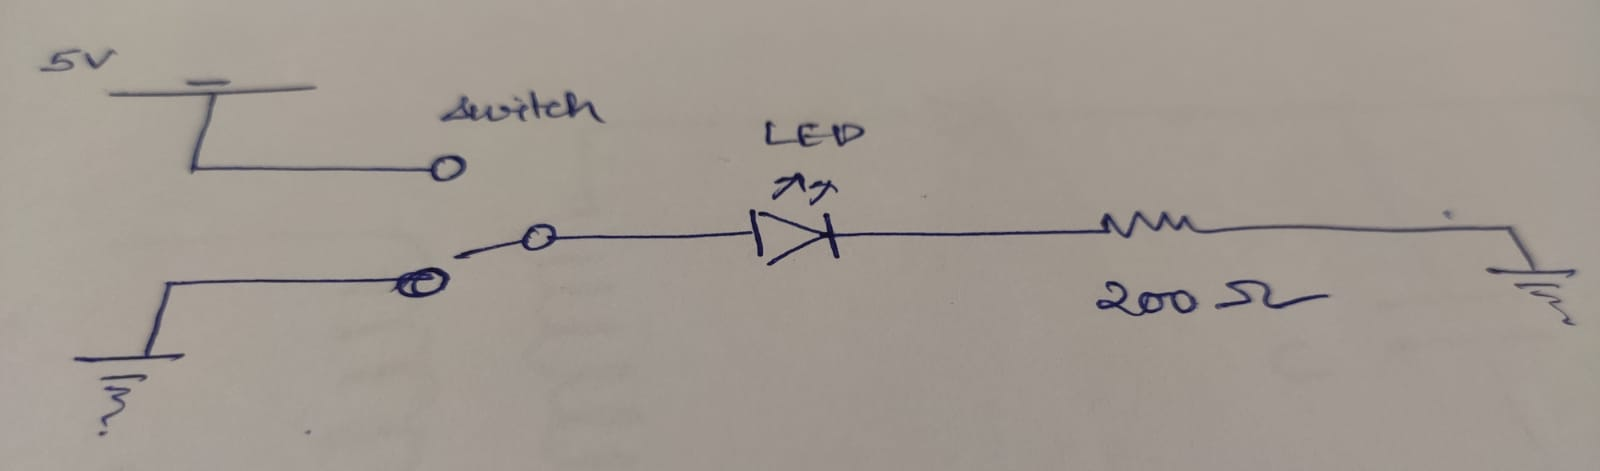diode.light_emitting: (745, 172, 840, 268)
gnd: (79, 349, 184, 438), (1486, 265, 1578, 325)
junction: (157, 271, 183, 298), (183, 155, 207, 179), (1497, 219, 1520, 243)
resistor: (1095, 208, 1203, 240)
switch: (393, 149, 561, 303)
text: (1091, 279, 1334, 317), (445, 85, 598, 124), (761, 114, 866, 149), (36, 41, 123, 74)
voltage.dc: (111, 71, 315, 99)
